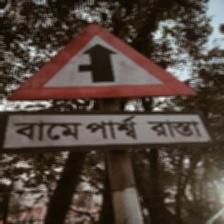Side-road-left: (2, 23, 208, 151)
